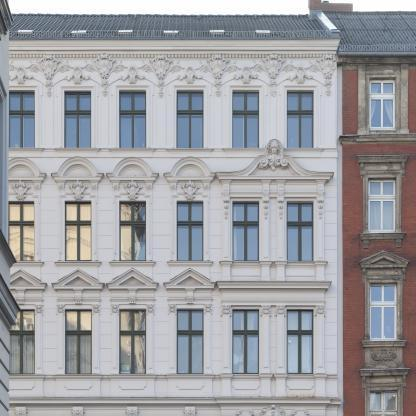Building Outline: (8, 0, 343, 416)
Cornice: (215, 139, 335, 221), (216, 280, 332, 305), (50, 156, 105, 196), (163, 156, 216, 196), (105, 156, 159, 195), (51, 268, 105, 305), (105, 268, 159, 304), (163, 268, 216, 304), (8, 156, 47, 196), (10, 268, 48, 304)
Deco: (9, 53, 337, 98)
Facade: (8, 2, 343, 414)
Floor: (9, 189, 343, 290), (9, 299, 343, 396)
Floor Slab: (9, 180, 344, 190), (9, 396, 343, 406), (9, 290, 343, 300)
Molding: (10, 397, 339, 405), (9, 50, 336, 58)
Roof: (9, 0, 342, 40)
Sill: (222, 148, 324, 158), (218, 261, 328, 267), (108, 148, 156, 158), (166, 148, 214, 158), (54, 147, 101, 157), (8, 147, 45, 157), (54, 261, 103, 268), (108, 261, 156, 268), (167, 261, 214, 268), (8, 261, 45, 268)
Top Floor: (9, 59, 343, 180)
Window: (287, 309, 314, 374), (65, 309, 92, 374), (120, 309, 147, 374), (177, 309, 204, 374), (233, 309, 260, 374), (9, 309, 35, 374), (287, 201, 314, 262), (65, 201, 92, 261), (120, 201, 147, 261), (177, 201, 204, 261), (287, 90, 314, 148), (64, 90, 91, 148), (120, 90, 147, 148), (177, 90, 204, 148), (233, 90, 260, 148), (233, 201, 259, 261), (9, 201, 34, 261), (9, 90, 35, 147)
